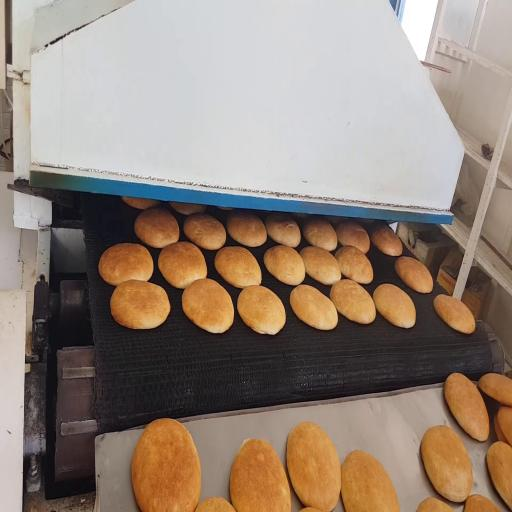bread: (131, 419, 201, 511), (287, 422, 341, 511), (230, 439, 291, 511), (421, 426, 472, 502), (342, 451, 399, 511), (444, 373, 489, 441), (110, 280, 170, 329), (182, 279, 234, 333), (237, 286, 285, 335), (99, 243, 153, 286), (158, 242, 207, 288), (290, 285, 338, 330), (330, 280, 375, 324), (215, 247, 261, 288), (373, 284, 415, 328), (135, 209, 179, 248), (487, 442, 511, 509), (264, 246, 305, 285), (434, 295, 475, 334), (300, 247, 341, 285), (184, 213, 226, 250), (226, 211, 266, 247), (395, 256, 433, 293), (335, 246, 373, 283), (265, 213, 300, 247), (336, 221, 370, 254), (303, 218, 337, 251), (479, 374, 511, 406), (370, 225, 402, 256), (464, 495, 499, 511), (196, 497, 235, 511), (497, 406, 511, 444), (418, 497, 453, 511), (122, 197, 159, 210), (170, 202, 206, 215), (494, 414, 506, 442), (301, 507, 319, 511), (217, 207, 232, 210)
